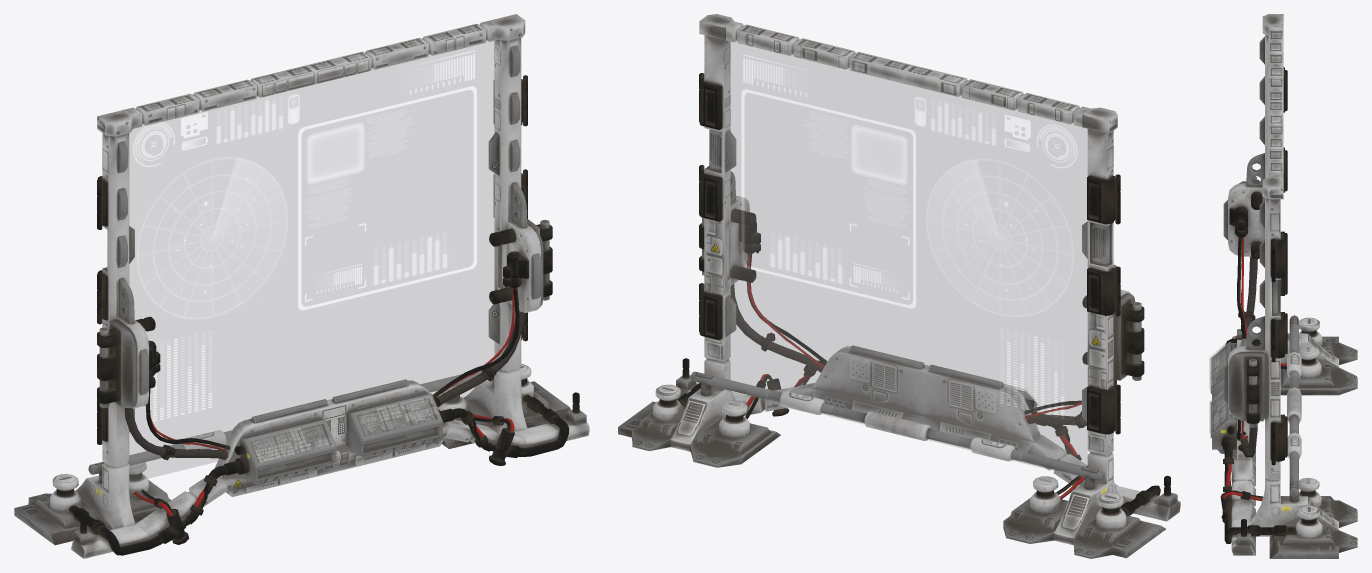
File: holoboard-transformed.glb
3 views of the same model, side by side, from view 1: azimuth 30°, elevation 25°; view 2: azimuth 150°, elevation 25°; view 3: azimuth 270°, elevation 25° (orthographic). The views are drawn at different scales.
Visible parts, largest first — view 1: defaultMaterial (×2); view 2: defaultMaterial (×2); view 3: defaultMaterial (×2).
Part boxes in pixels (left/top/right/bottom): defaultMaterial (×2): left=14, top=14, right=589, bottom=558; defaultMaterial (×2): left=618, top=14, right=1180, bottom=558; defaultMaterial (×2): left=1209, top=14, right=1357, bottom=558.
Bounding box in the file's own units: 2 × 1.52 × 0.5794.
Materials: 2 (2 with a texture image).
